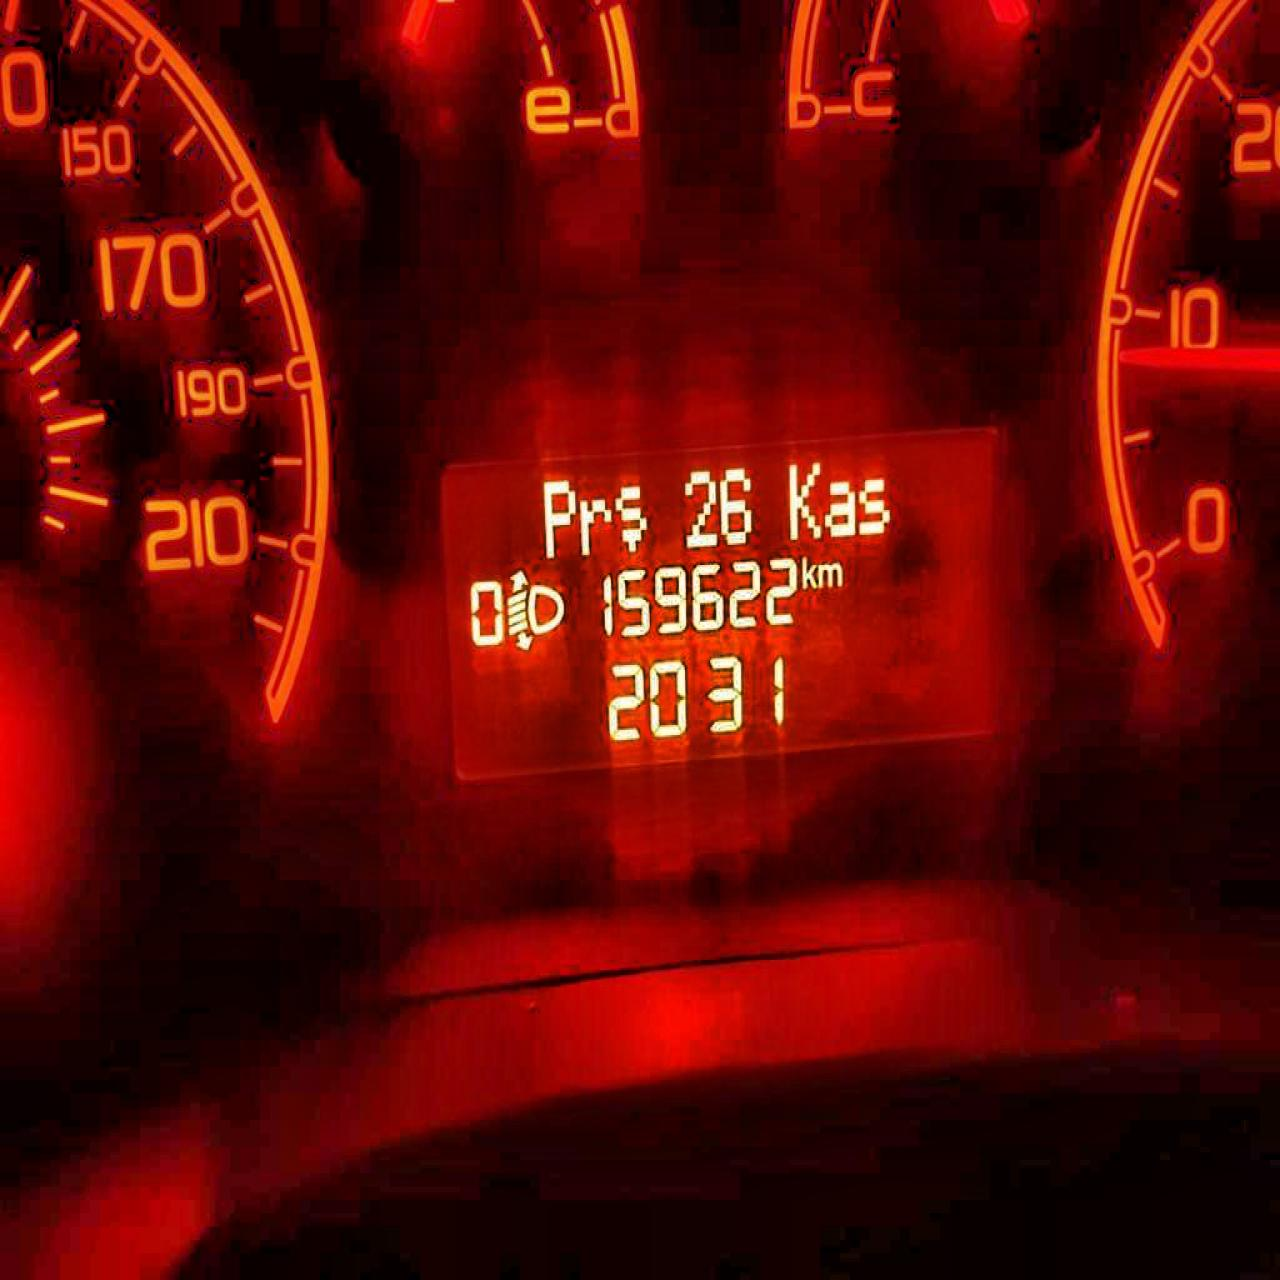0: (647, 659, 687, 737), (469, 578, 504, 647)
1: (771, 653, 784, 727), (600, 573, 612, 636)
2: (606, 662, 644, 741), (683, 469, 717, 549), (728, 558, 761, 627), (764, 557, 796, 625)
3: (703, 653, 742, 731)
5: (617, 566, 651, 636)
6: (717, 464, 751, 543), (690, 561, 724, 632)
9: (653, 565, 687, 632)
X: (540, 477, 576, 558), (788, 459, 822, 540), (613, 483, 647, 552), (579, 497, 611, 557), (858, 477, 890, 533), (824, 481, 855, 537), (817, 561, 843, 586), (799, 554, 816, 588)
odometer: (433, 420, 1001, 790)
